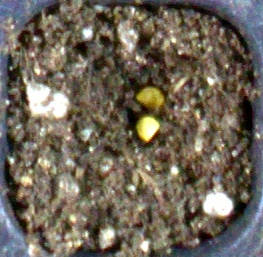chilli seed: (136, 116, 159, 142), (136, 86, 164, 107)
